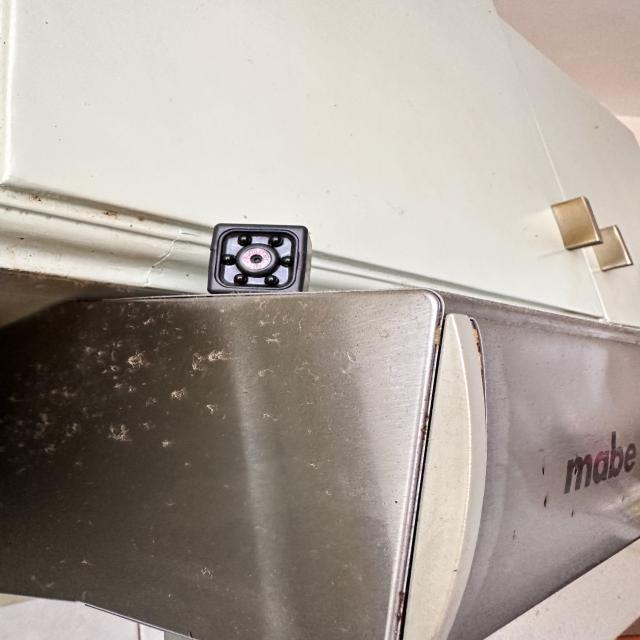hidden camera: (240, 246, 273, 271)
